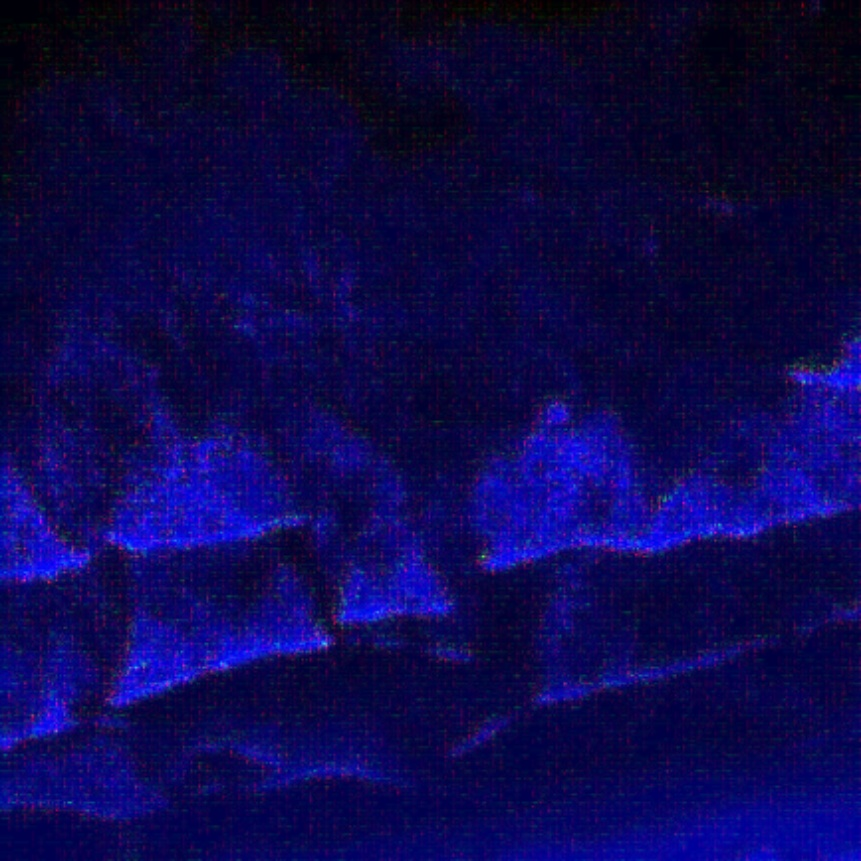rip_current: (328, 288, 585, 684)
